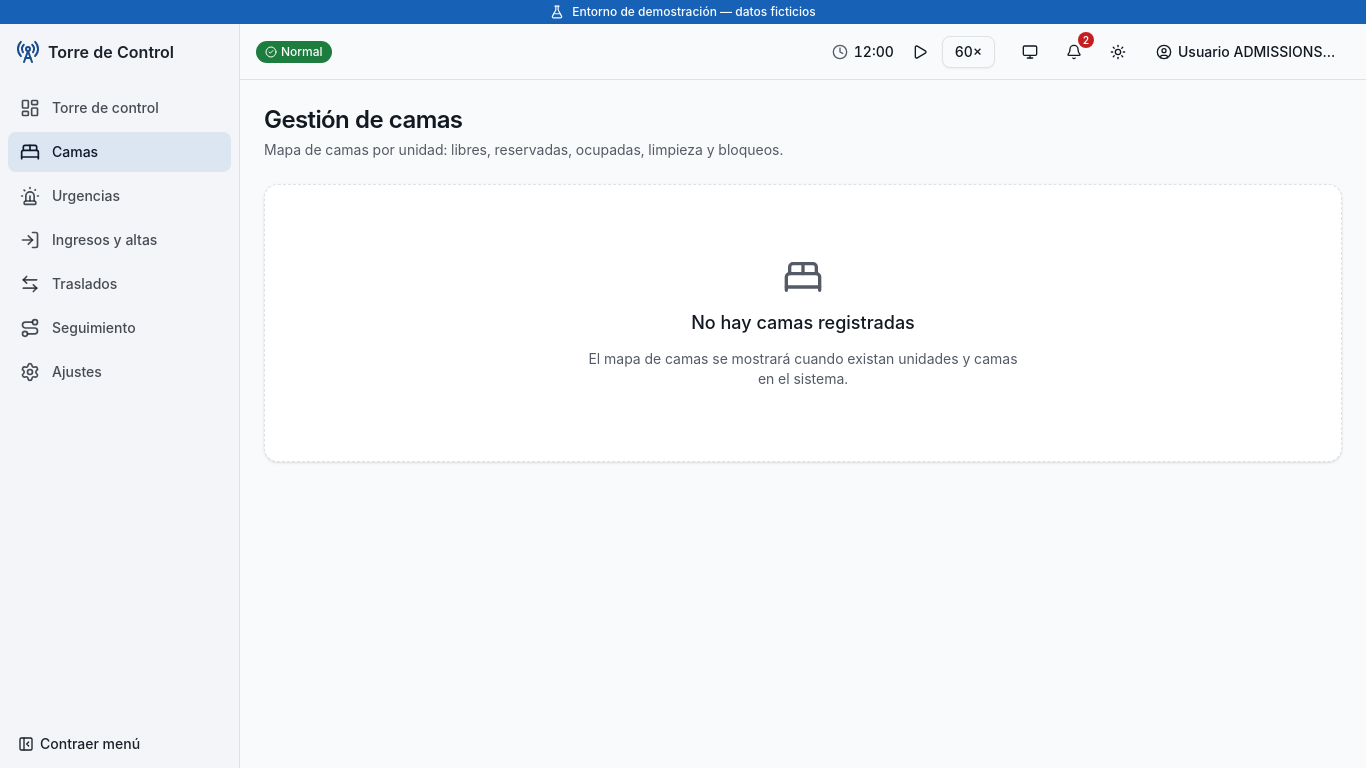
alert centre › filters by severity and by area
Click the button named "Alertas: 2 alertas sin reconocer (crítica)" at (1074, 52), box [1056,34,1092,70]
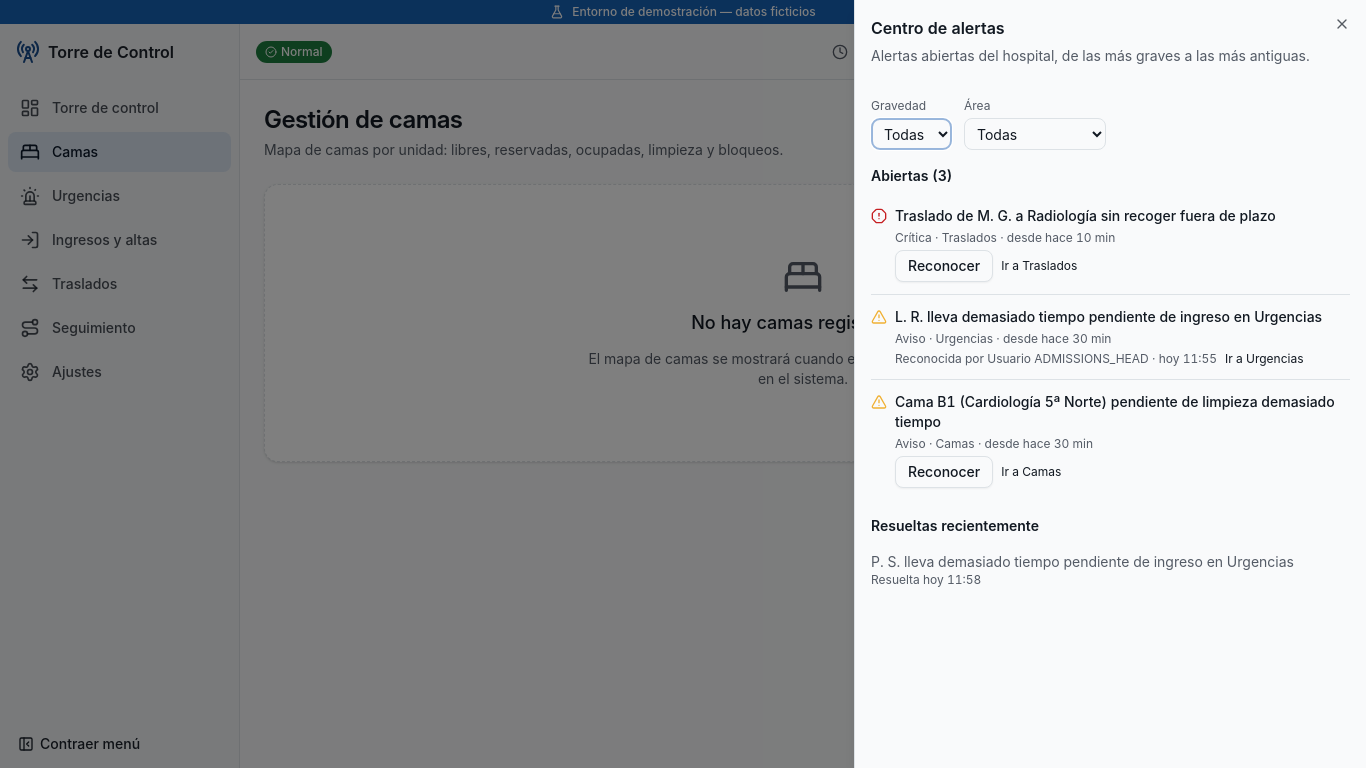
Select "Crítica" in the dropdown labelled "Gravedad" at (912, 134), box [871,118,952,150]
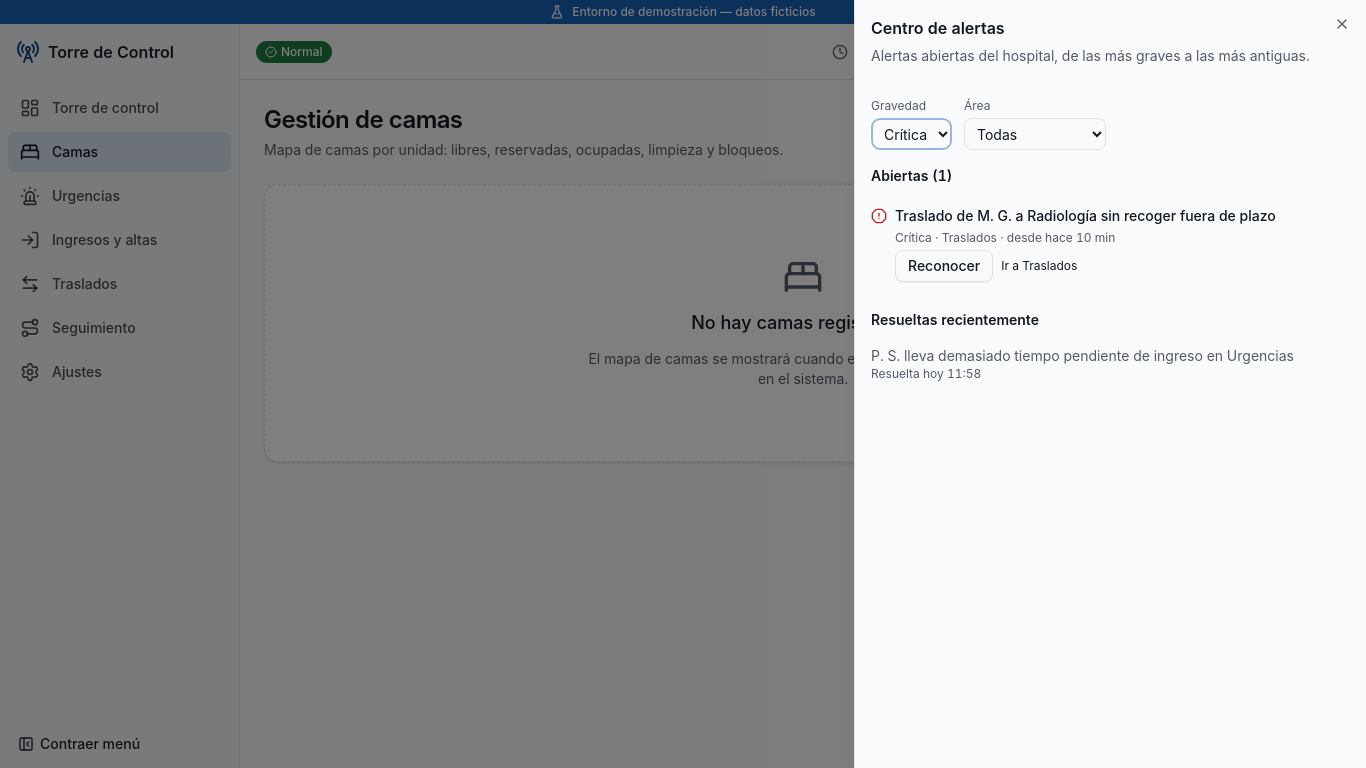
Select "Todas" in the dropdown labelled "Gravedad" at (912, 134), box [871,118,952,150]
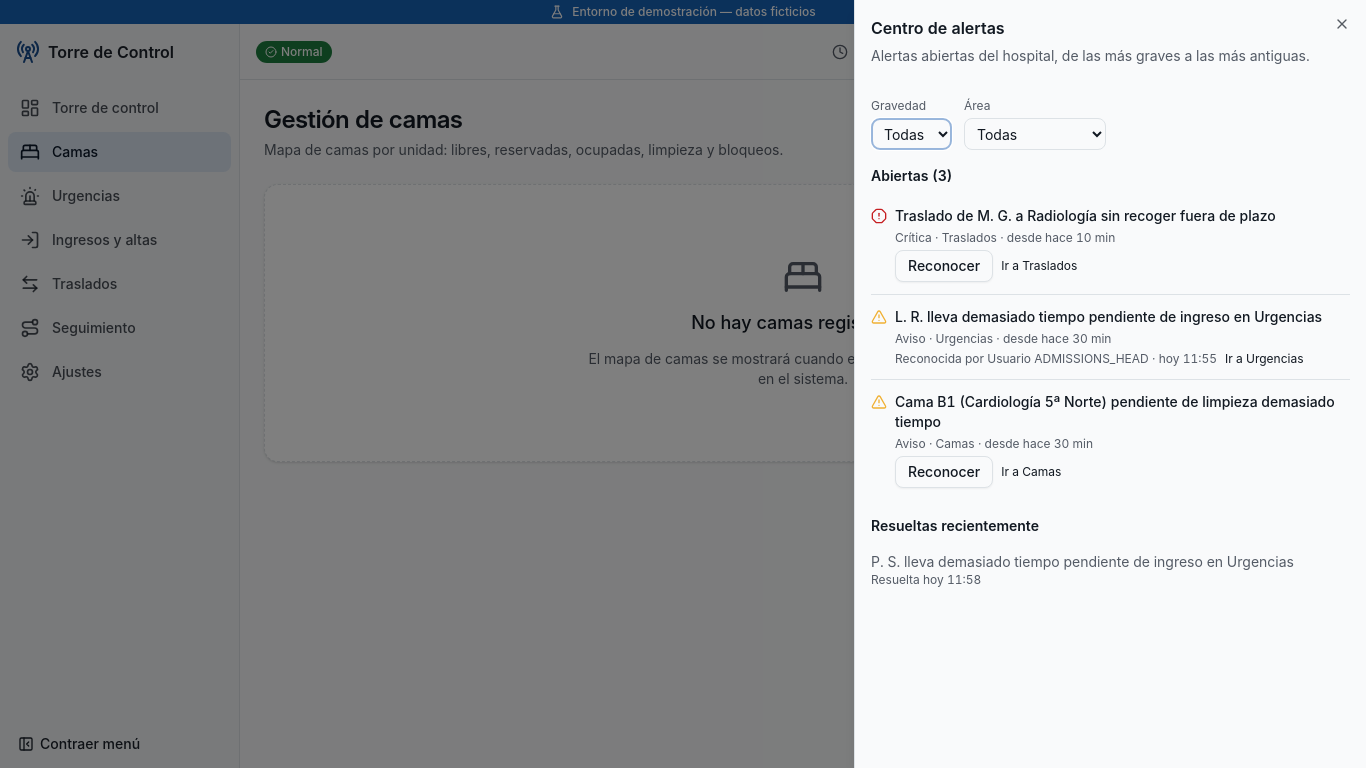
Select "Camas" in the dropdown labelled "Área" at (1035, 134), box [964,118,1106,150]
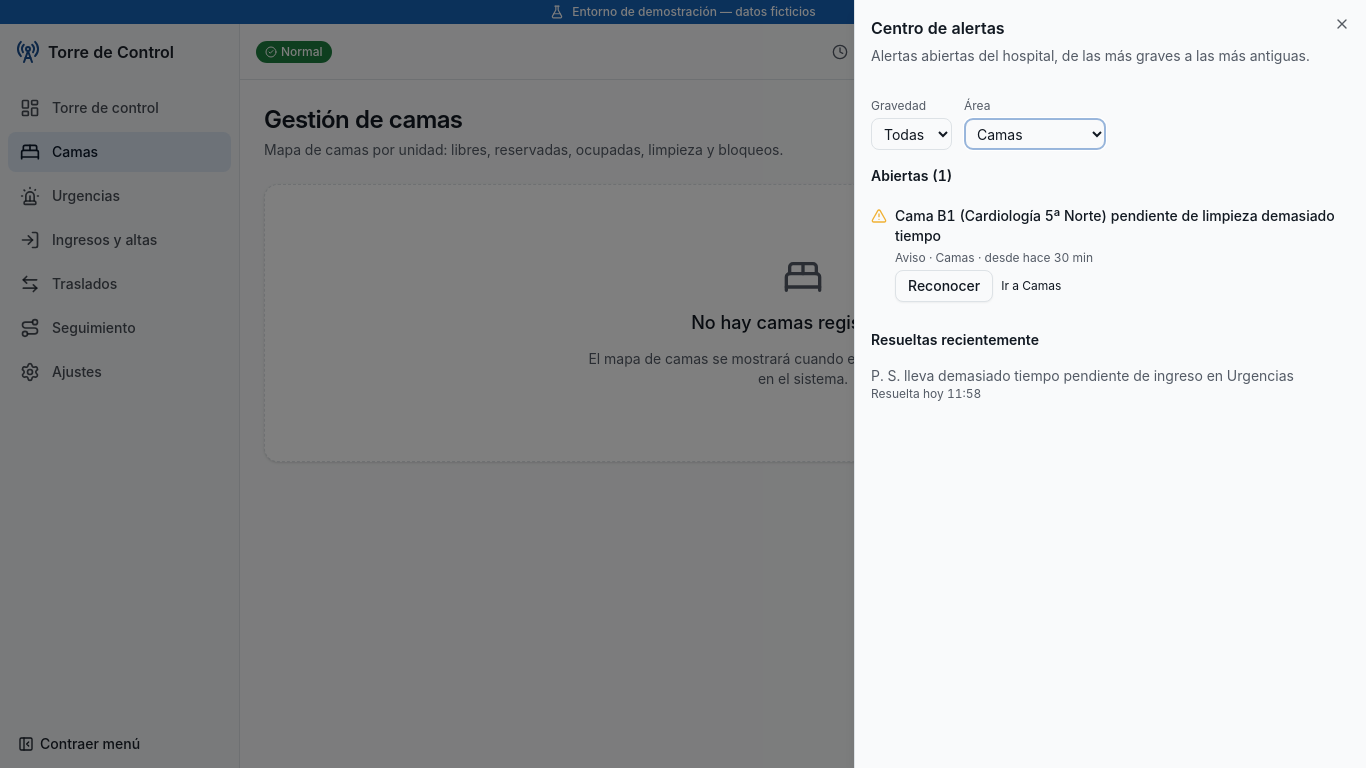
Select "Ingresos y altas" in the dropdown labelled "Área" at (1035, 134), box [964,118,1106,150]
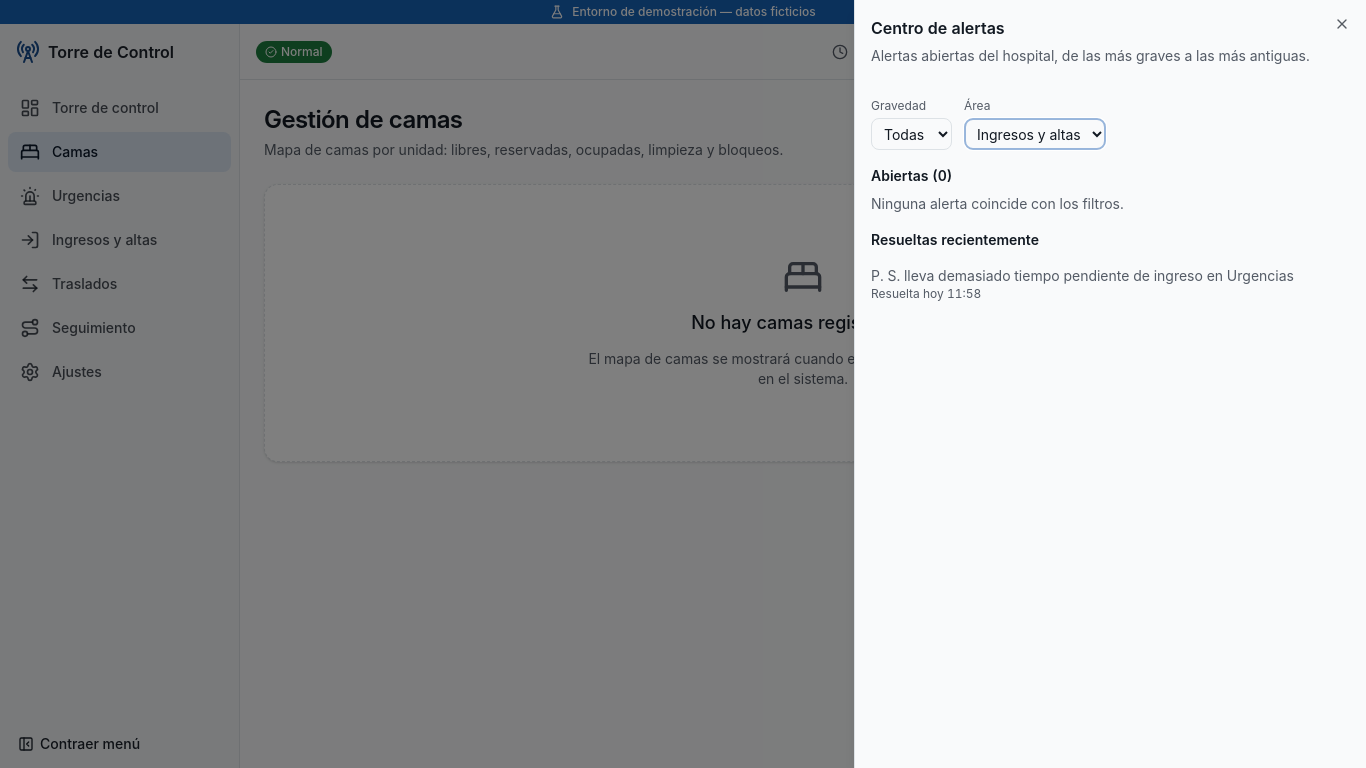
Now the text "Ninguna alerta coincide con los filtros." is shown, box [871,195,1124,212]
